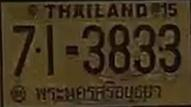1: (46, 24, 53, 74)
3: (82, 24, 104, 74), (133, 24, 155, 73), (158, 23, 180, 72)
7: (12, 24, 34, 76)
8: (108, 24, 129, 72)
AYA: (30, 79, 163, 105)
